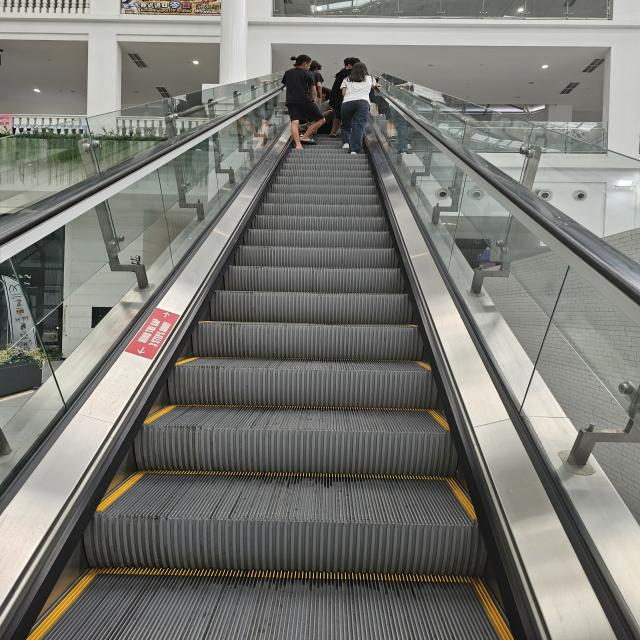escalator: (84, 161, 514, 640)
person: (281, 54, 326, 149), (339, 62, 382, 154), (326, 56, 361, 138)
